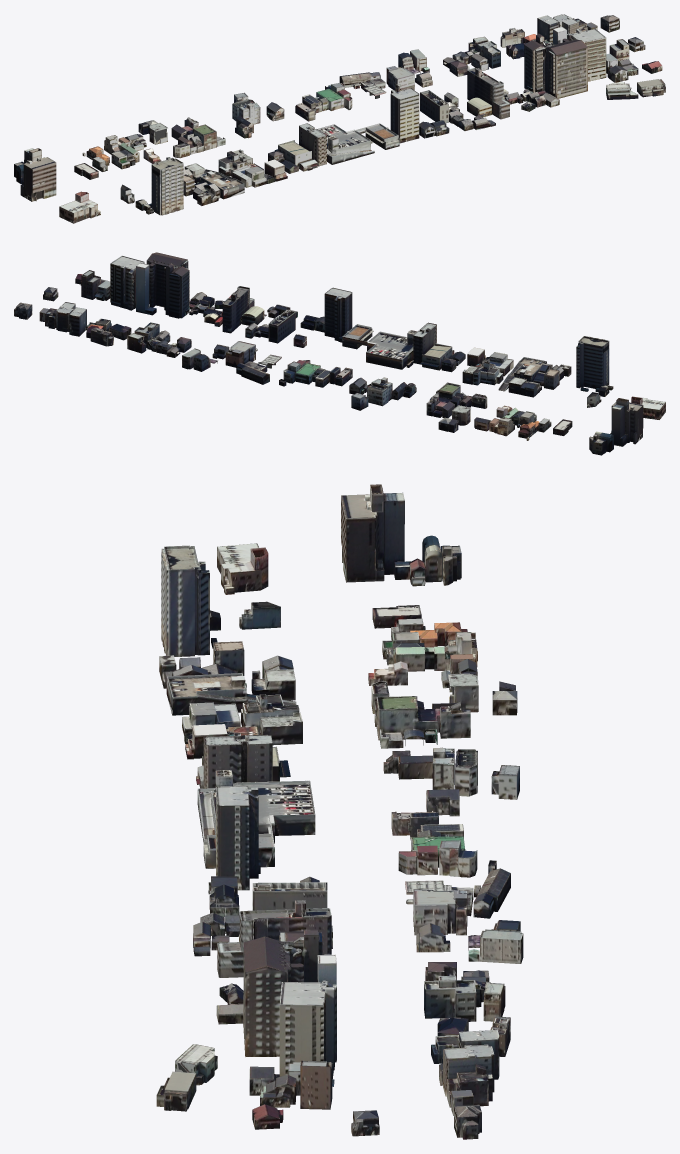
File: 2023-lod3-station-6-2-packed.glb
3 views of the same model, one above another, from view 1: azimuth 30°, elevation 25°; view 2: azimuth 150°, elevation 25°; view 3: azimuth 270°, elevation 25° (orthographic). The views are drawn at different scales.
Bounding box in the file's own units: 494 × 39.4 × 131.
Materials: 5 (4 with a texture image).
